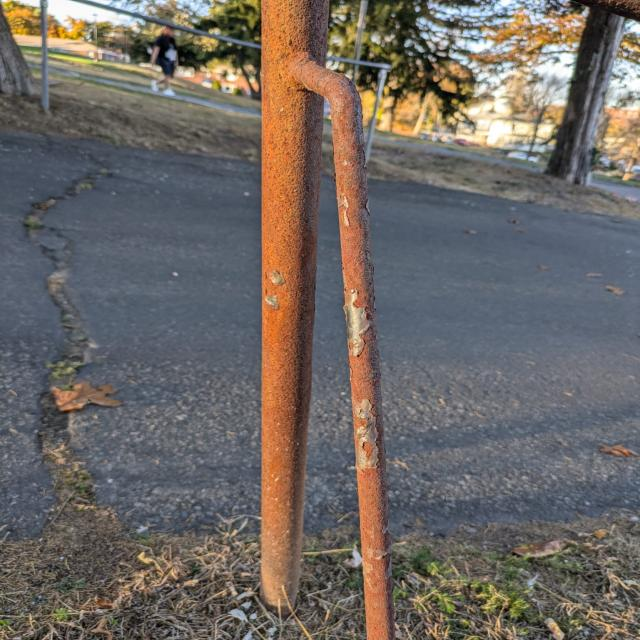Filiform Corrosion: (347, 287, 388, 480)
Uniform Corrosion: (259, 1, 377, 609), (356, 473, 394, 640)
